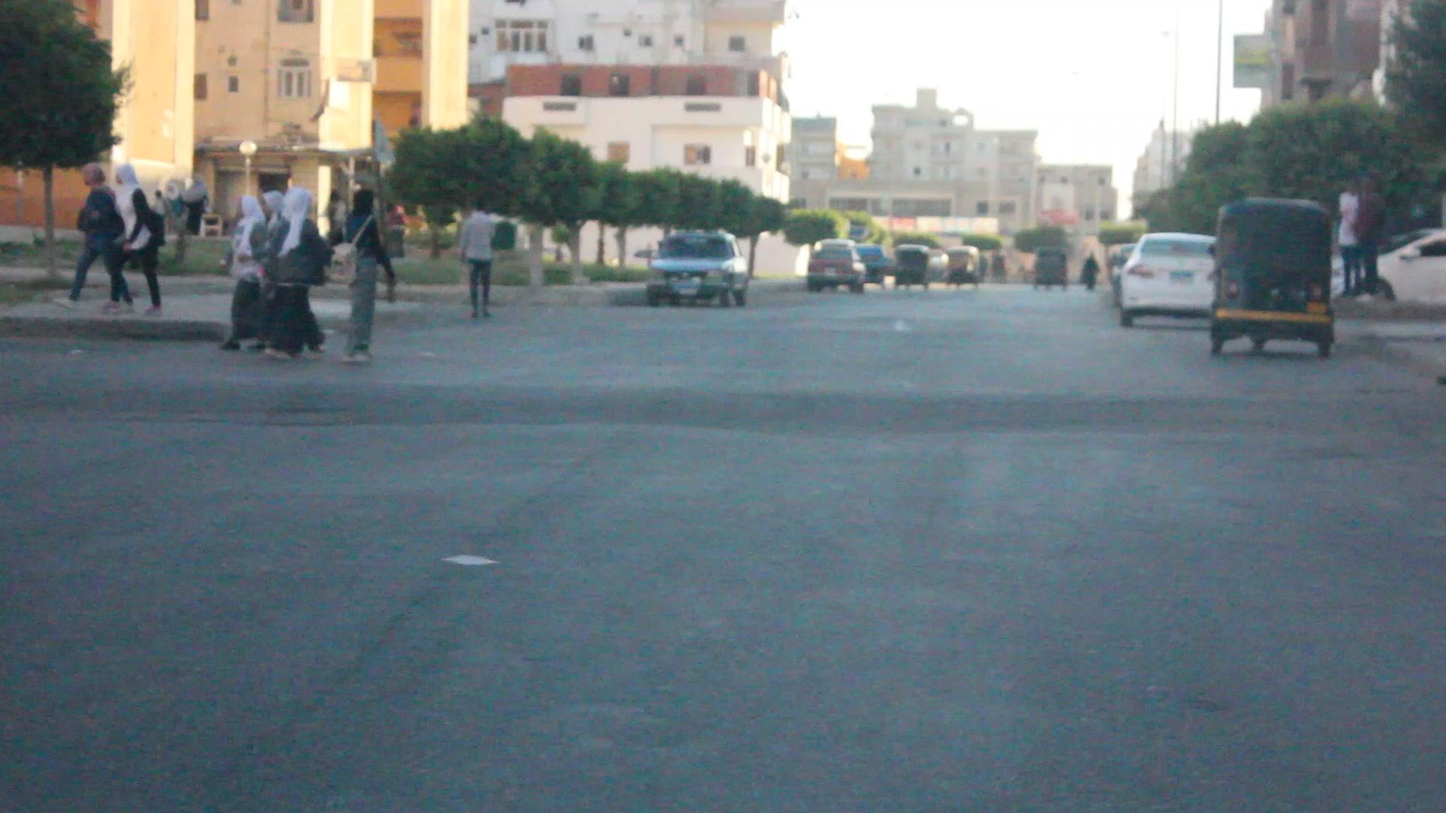Bump: (6, 352, 1446, 467)
